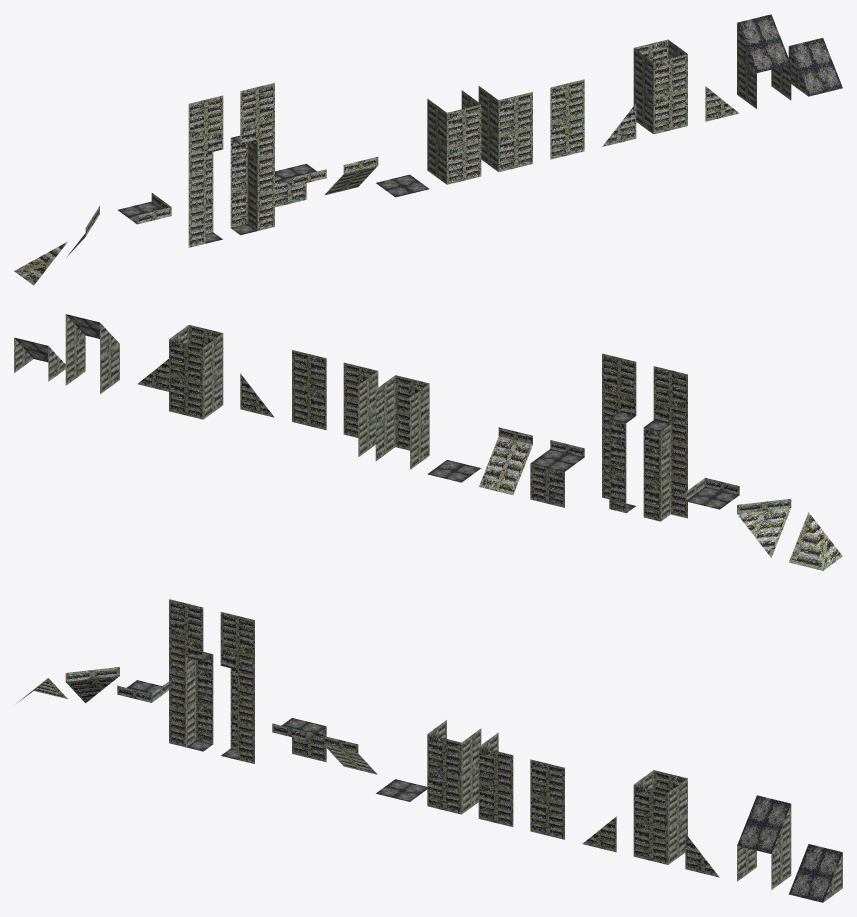
File: tileset.glb
3 renders of one model, top to bottom at view 1: azimuth 30°, elevation 25°; view 2: azimuth 150°, elevation 25°; view 3: azimuth 330°, elevation 25°, orthographic.
Parts seen in each view (by area): view 1: door2-col.001, wall2-col.001, door2-col, wall2-col.005, wall2-col.002, wall2-col.003, wall2-col.008, wall2-col.004, floor-col.004, wall1-col.002, floor-col.001, wall1-col.003 (+3 smaller); view 2: door2-col, wall2-col.001, door2-col.001, wall2-col.005, wall2-col.003, wall2-col.002, wall2-col.008, floor-col.004, wall1-col.002, wall1-col, wall1-col.003, floor-col.001 (+4 smaller); view 3: door2-col, wall2-col.001, door2-col.001, wall2-col.005, wall2-col.003, wall2-col.002, wall2-col.008, wall2-col.004, floor-col.004, wall1-col, wall1-col.002, floor-col.001 (+3 smaller).
Part boxes in pixels (box(x1,y1,x2,y2)): door2-col.001: box(230, 83, 274, 235); wall2-col.001: box(633, 39, 687, 134); door2-col: box(188, 95, 223, 247); wall2-col.005: box(427, 90, 481, 184); wall2-col.002: box(478, 86, 532, 171); wall2-col.003: box(737, 14, 791, 108); wall2-col.008: box(550, 79, 584, 159); wall2-col.004: box(788, 38, 842, 96); floor-col.004: box(275, 164, 326, 207); wall1-col.002: box(324, 157, 378, 195); floor-col.001: box(118, 193, 171, 224); wall1-col.003: box(14, 241, 67, 285); door2-col: box(643, 366, 687, 521); wall2-col.001: box(169, 325, 223, 419); door2-col.001: box(602, 353, 636, 513); wall2-col.005: box(375, 375, 429, 469); wall2-col.003: box(65, 314, 119, 394); wall2-col.002: box(343, 362, 378, 456); wall2-col.008: box(292, 350, 326, 430); floor-col.004: box(530, 440, 584, 507); wall1-col.002: box(479, 427, 532, 494); wall1-col: box(737, 499, 791, 557); wall1-col.003: box(789, 512, 842, 570); floor-col.001: box(685, 477, 739, 509); door2-col: box(169, 599, 213, 751); wall2-col.001: box(633, 770, 687, 864); door2-col.001: box(220, 612, 254, 763); wall2-col.005: box(427, 720, 481, 814); wall2-col.003: box(737, 795, 791, 889); wall2-col.002: box(478, 732, 513, 826); wall2-col.008: box(530, 759, 564, 839); wall2-col.004: box(788, 844, 842, 902); floor-col.004: box(272, 718, 326, 762); wall1-col: box(65, 667, 119, 703); wall1-col.002: box(324, 736, 377, 774); floor-col.001: box(117, 680, 168, 702).
Size of the model in its own units: 47 by 8 by 2.
Materials: 1 (1 with a texture image).
